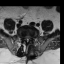CCS_stenosis: (26, 35, 28, 43)
LFS_severe_stenosis: (30, 35, 32, 41)
LLS_severe_stenosis: (28, 35, 30, 41)
RFS_severe_stenosis: (22, 35, 25, 40)
RLS_severe_stenosis: (25, 35, 26, 41)
